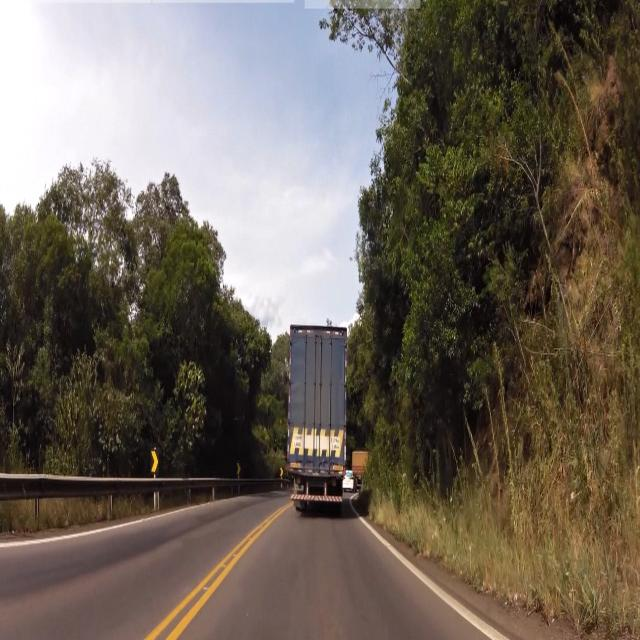Del: (149, 444, 162, 478)
